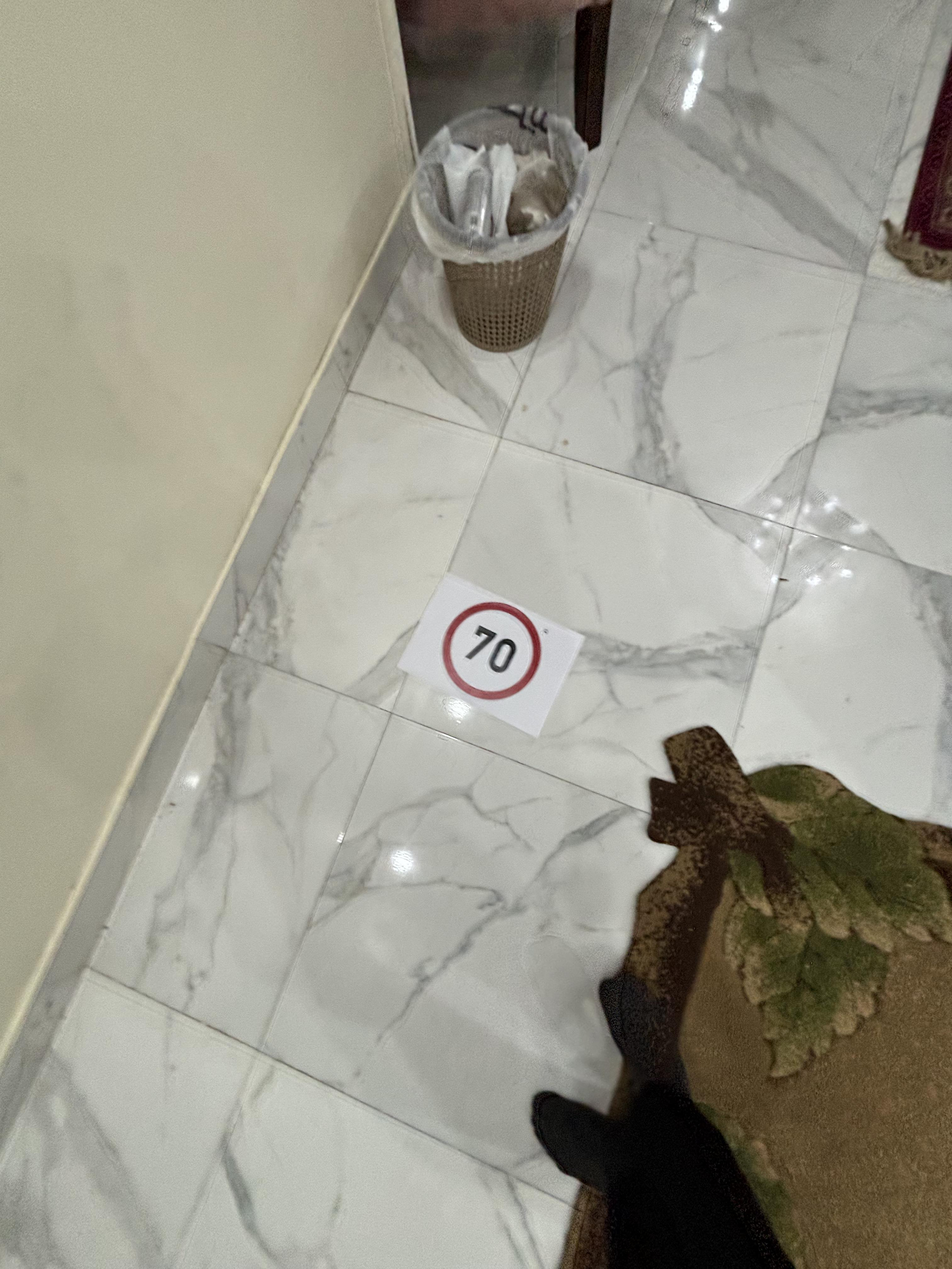70-Speed: (437, 599, 545, 700)
